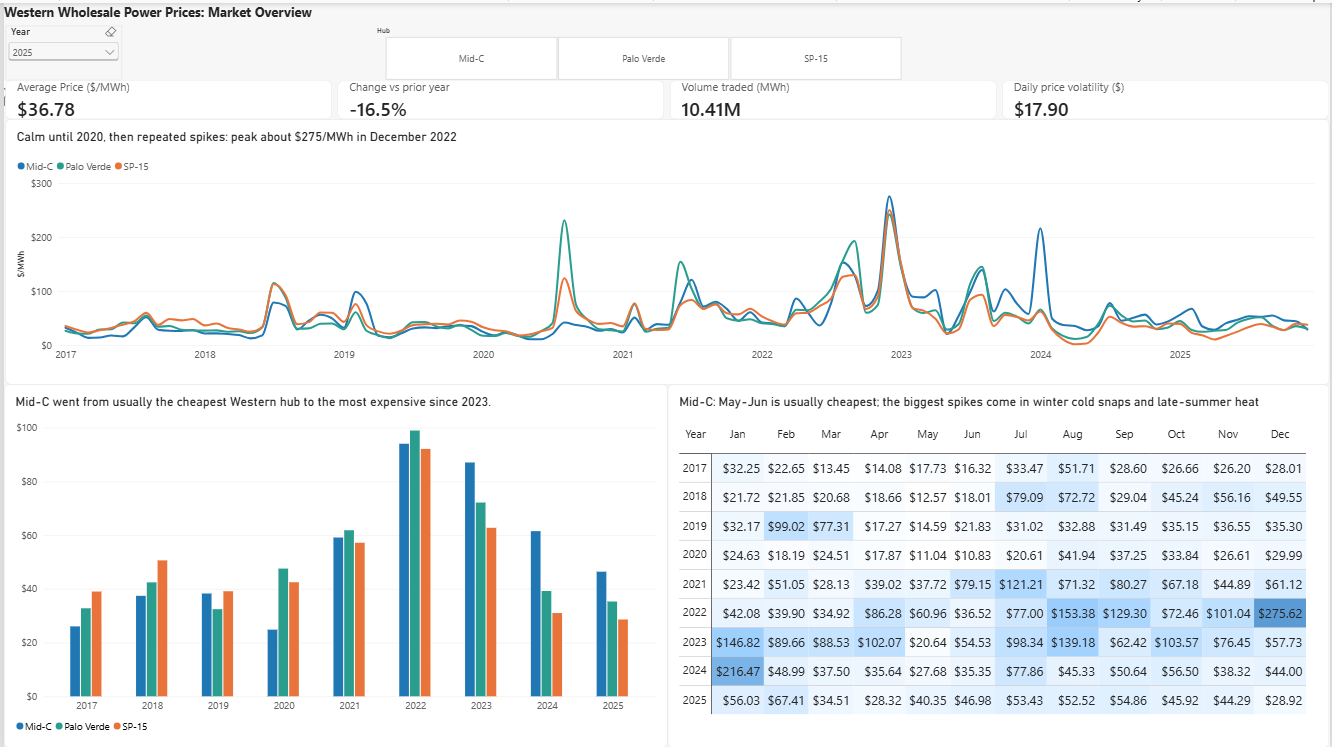

The dashboard page shown, as its layout file describes it:
{"tool":"powerbi","page":{"name":"Overview","canvas":[1920,1080],"ordinal":0},"visuals":[{"type":"slicer","fields":{"Values":["dim_date.Year"]},"box":[1.2,32.5,168.8,80],"z":0},{"type":"textbox","box":[0,0,459.7,32.6],"z":1000},{"type":"cardVisual","fields":{"Data":["_Measures.Avg Price","_Measures.Price YoY %","_Measures.Traded Volume MWh","_Measures.Price Volatility"]},"box":[1.8,112.2,1918.2,56.1],"z":2000},{"type":"slicer","fields":{"Values":["dim_hub.HubShort"]},"box":[532,32.6,786.2,80],"z":3000},{"type":"lineChart","title":"Calm until 2020, then repeated spikes: peak about $275/MWh in December 2022","fields":{"Category":["dim_date.MonthStart"],"Series":["dim_hub.HubShort"],"Y":["_Measures.Avg Price"]},"box":[1.8,168.3,1918.2,383.6],"z":4000},{"type":"clusteredColumnChart","title":"Mid-C went from usually the cheapest Western hub to the most expensive since 2023.","fields":{"Category":["dim_date.Year"],"Series":["dim_hub.HubShort"],"Y":["_Measures.Avg Price"]},"box":[0,551.9,960.9,526.6],"z":5000},{"type":"pivotTable","title":"Mid-C: May-Jun is usually cheapest; the biggest spikes come in winter cold snaps and late-summer heat","fields":{"Columns":["dim_date.Month"],"Rows":["dim_date.Year"],"Values":["_Measures.Mid-C Price"]},"box":[960.9,551.9,957.3,526.6],"z":6000}]}

Visuals, with their boxes in screenshot pixels (x1, y1, x2, y2), scaled from the page's 1920x1080 canvas onto the 1332x747 screenshot:
slicer - dim_date.Year: 1/22/118/78
textbox: 0/0/319/23
cardVisual - _Measures.Avg Price x _Measures.Price YoY %: 1/78/1331/116
slicer - dim_hub.HubShort: 369/23/915/78
"Calm until 2020, then repeated spikes: peak about $275/MWh in December 2022" lineChart: 1/116/1331/382
"Mid-C went from usually the cheapest Western hub to the most expensive since 2023." clusteredColumnChart: 0/382/667/746
"Mid-C: May-Jun is usually cheapest; the biggest spikes come in winter cold snaps and late-summer heat" pivotTable: 667/382/1331/746
